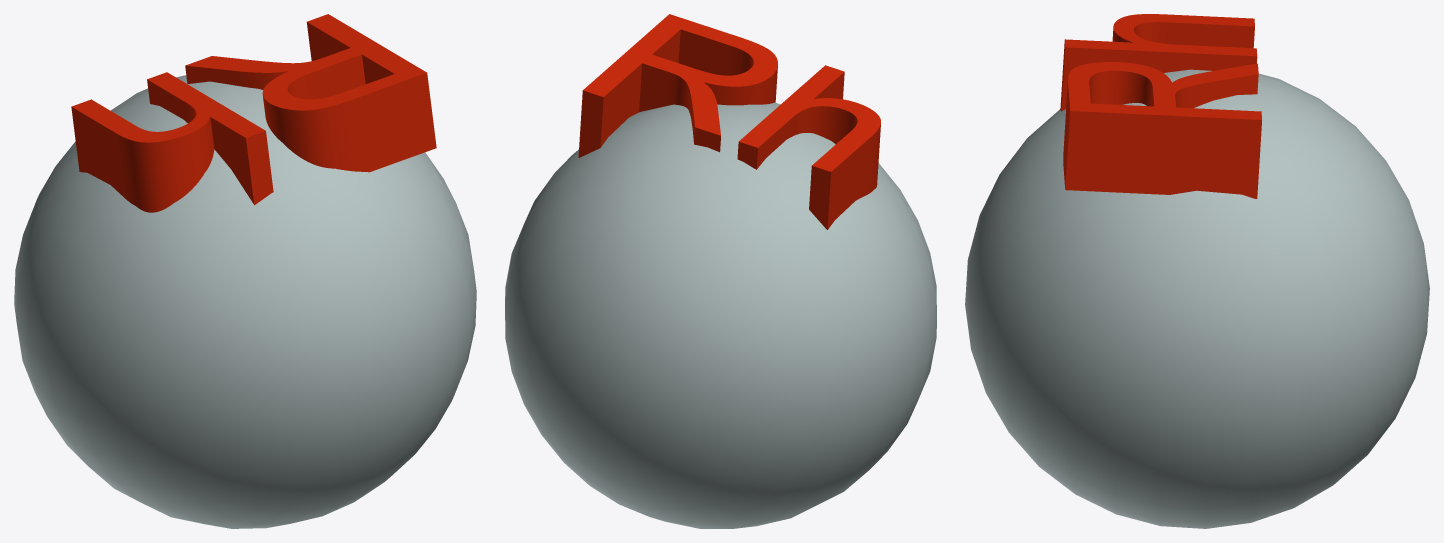
3 renders of one model, left to right at view 1: azimuth 30°, elevation 25°; view 2: azimuth 150°, elevation 25°; view 3: azimuth 270°, elevation 25°, orthographic. The views are drawn at different scales.
Parts seen in each view (by area): view 1: Rh; view 2: Rh; view 3: Rh.
Boxes of the visible parts, <box> form: Rh: <box>14,14,476,528</box>; Rh: <box>505,14,936,528</box>; Rh: <box>965,14,1429,528</box>.
Bounding box in the file's own units: 38.63 × 41.7 × 38.72.
